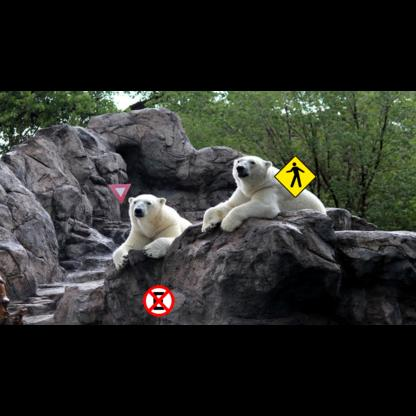A-32a: (274, 155, 317, 198)
R-6c: (143, 285, 174, 317)
